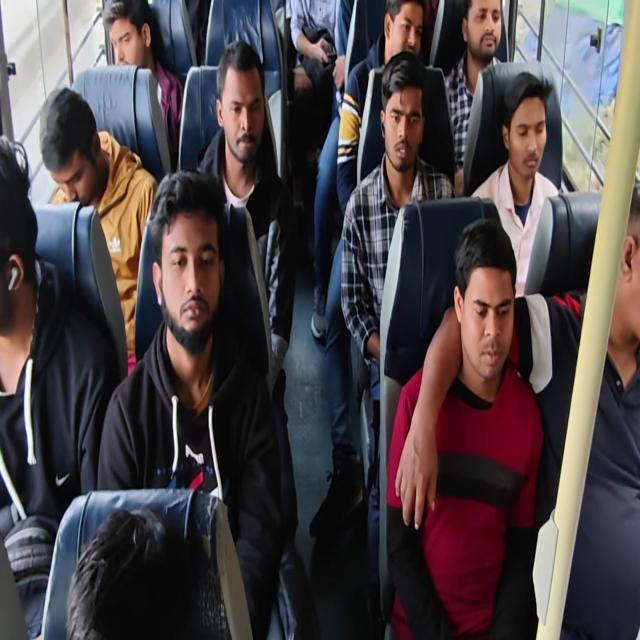person: (155, 176, 222, 347), (34, 100, 118, 217), (455, 232, 508, 378), (0, 131, 33, 319), (604, 185, 640, 353), (218, 46, 264, 167), (508, 72, 550, 186), (381, 68, 428, 168), (94, 0, 158, 72), (376, 0, 433, 68), (461, 0, 508, 69)
